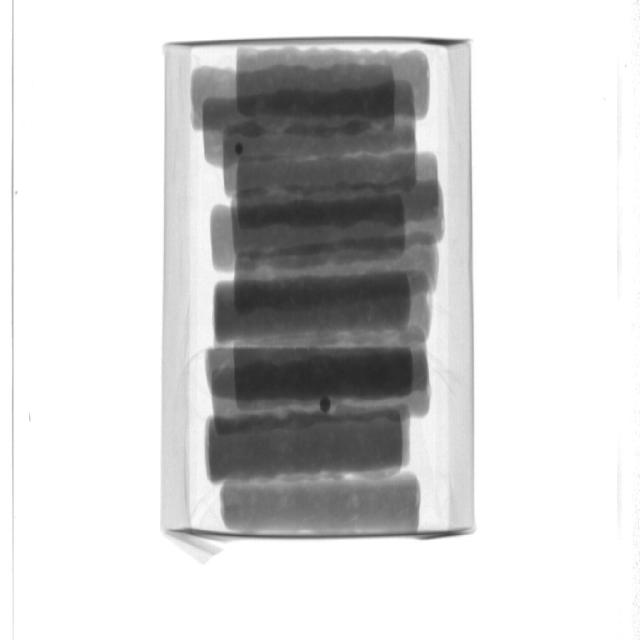ym: (320, 399, 332, 415), (237, 144, 246, 154)
